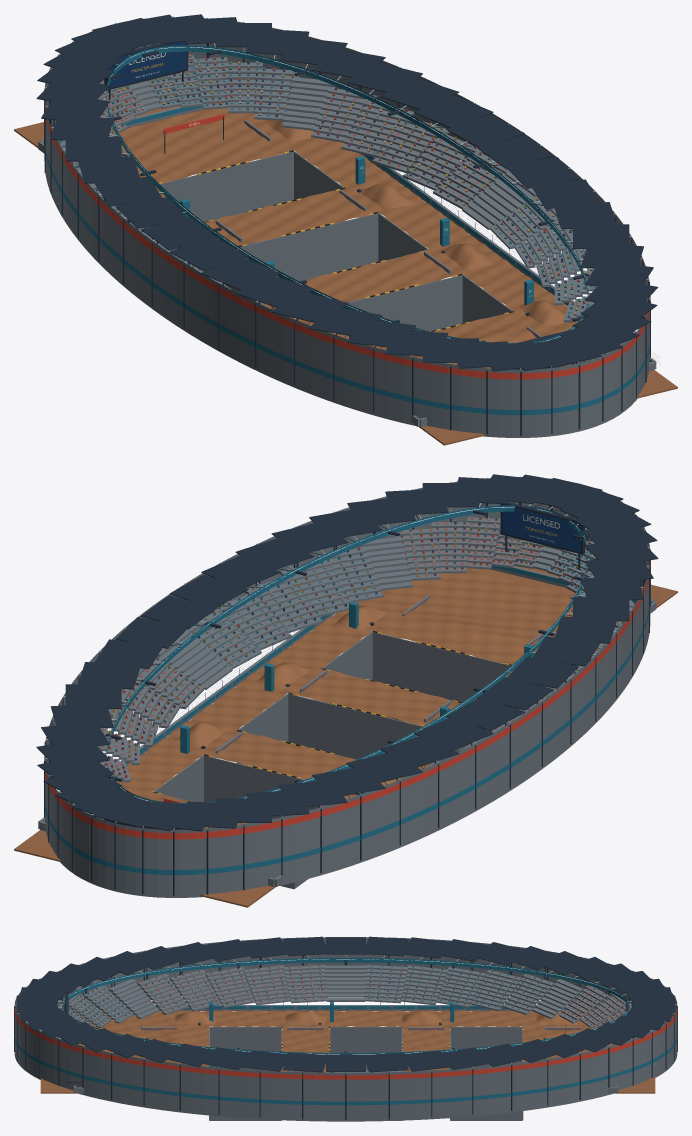
The model's file is stadium.glb.
The picture shows the model from 3 angles, top to bottom: view 1: azimuth 30°, elevation 25°; view 2: azimuth 150°, elevation 25°; view 3: azimuth 270°, elevation 25°; orthographic projection. The views are drawn at different scales.
Visible parts, largest first — view 1: Stadium exterior, Ride_Dirt, Grandstands, Pit concrete retaining wall.004, Pit concrete retaining wall.002, Roof inner fascia, Upper red fascia, Pit concrete retaining wall, Lower concourse band, Scoreboard LED.001, Roof panel.024, Roof panel (+58 smaller); view 2: Stadium exterior, Ride_Dirt, Grandstands, Pit concrete retaining wall.001, Pit concrete retaining wall.003, Roof inner fascia, Upper red fascia, Lower concourse band, Pit concrete retaining wall.005, Scoreboard LED, Ride_EndApron.001, Roof panel.002 (+58 smaller); view 3: Stadium exterior, Grandstands, Ride_Dirt, Roof inner fascia, Upper red fascia, Lower concourse band, Pit side lining.002, Pit side lining, Pit side lining.004, Solid_ArenaWall, Roof panel.045, Roof panel.002 (+53 smaller).
Part boxes in pixels (<box>): Stadium exterior: <box>44,18,650,437</box>; Ride_Dirt: <box>119,97,578,368</box>; Grandstands: <box>60,55,626,364</box>; Pit concrete retaining wall.004: <box>155,151,293,221</box>; Pit concrete retaining wall.002: <box>240,213,378,281</box>; Roof inner fascia: <box>106,45,587,344</box>; Upper red fascia: <box>44,103,650,379</box>; Pit concrete retaining wall: <box>348,275,462,331</box>; Lower concourse band: <box>44,140,650,415</box>; Scoreboard LED.001: <box>108,41,186,87</box>; Roof panel.024: <box>141,217,217,250</box>; Roof panel: <box>477,135,553,168</box>; Stadium exterior: <box>44,477,650,897</box>; Ride_Dirt: <box>116,558,572,828</box>; Grandstands: <box>68,517,634,819</box>; Pit concrete retaining wall.001: <box>372,632,510,702</box>; Pit concrete retaining wall.003: <box>288,693,422,759</box>; Roof inner fascia: <box>106,505,587,804</box>; Upper red fascia: <box>44,560,650,839</box>; Lower concourse band: <box>44,591,650,875</box>; Pit concrete retaining wall.005: <box>204,755,321,818</box>; Scoreboard LED: <box>502,505,580,551</box>; Ride_EndApron.001: <box>14,830,275,907</box>; Roof panel.002: <box>201,555,280,588</box>; Stadium exterior: <box>14,937,677,1121</box>; Grandstands: <box>28,965,663,1039</box>; Ride_Dirt: <box>85,1010,613,1072</box>; Roof inner fascia: <box>62,958,629,1054</box>; Upper red fascia: <box>14,1008,677,1079</box>; Lower concourse band: <box>14,1035,677,1105</box>; Pit side lining.002: <box>330,1027,401,1070</box>; Pit side lining: <box>209,1027,281,1070</box>; Pit side lining.004: <box>450,1027,522,1068</box>; Solid_ArenaWall: <box>94,1005,590,1010</box>; Roof panel.045: <box>438,1047,489,1069</box>; Roof panel.002: <box>241,1050,289,1071</box>.
Size of the model in its own units: 161 by 50.66 by 331.
